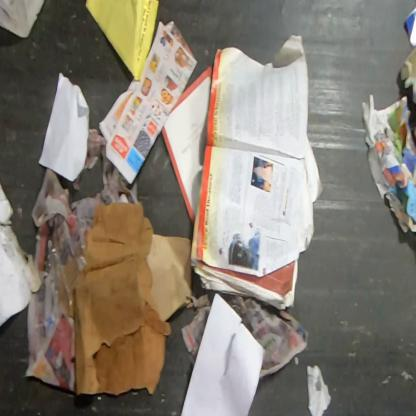cardboard: (0, 181, 50, 330)
rigid_plastic: (42, 235, 88, 334)
